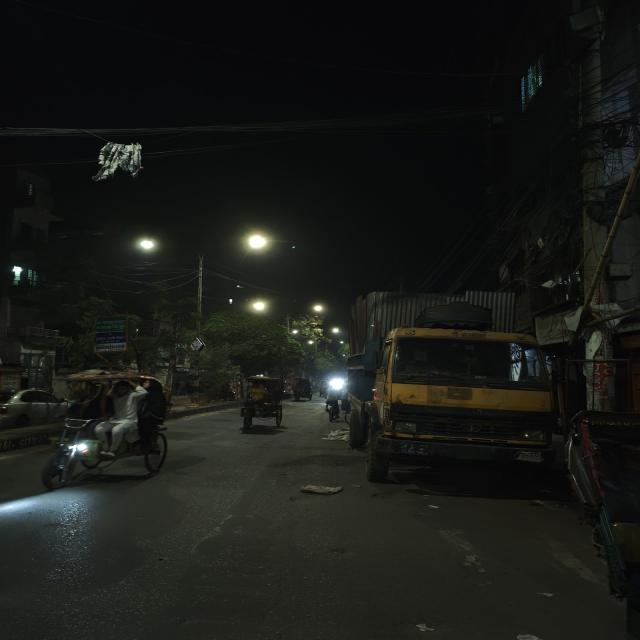rickshaw: (35, 366, 177, 490), (229, 376, 292, 432), (289, 376, 315, 402)
truck: (346, 286, 566, 475)
